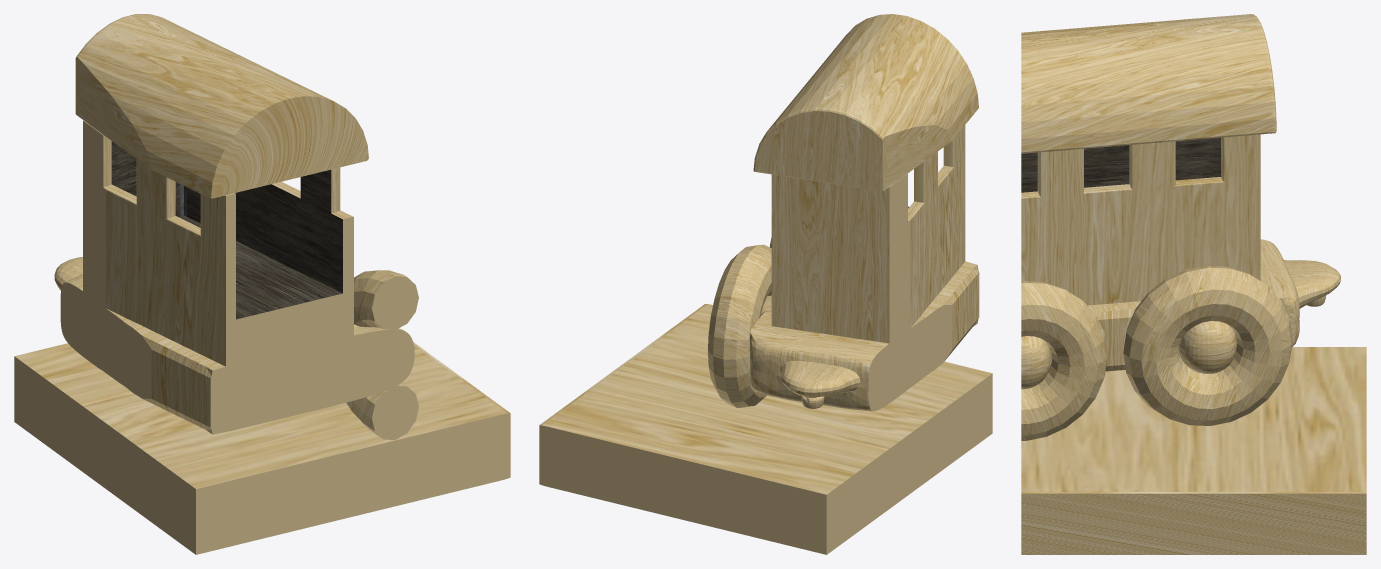
Rendered from 5_Holzbahn_Interior.fbx.
3 views of the same model, side by side, from view 1: azimuth 30°, elevation 25°; view 2: azimuth 150°, elevation 25°; view 3: azimuth 270°, elevation 25° (orthographic). The views are drawn at different scales.
Visible parts, largest first — view 1: Cube.012, Cube.049, Cube.048, Cube.050, Cube.046; view 2: Cube.012, Cube.049, Cube.048, Cube.050, Cube.047, Cube.051; view 3: Cube.012, Cube.049, Cube.048, Cube.047, Cube.046, Cube.050, Cube.051.
Part boxes in pixels (x1,y1,x2,y2): Cube.012: (14, 342, 510, 554); Cube.049: (83, 120, 353, 366); Cube.048: (75, 14, 368, 198); Cube.050: (60, 274, 414, 434); Cube.046: (346, 270, 418, 439); Cube.012: (539, 304, 992, 554); Cube.049: (771, 125, 965, 343); Cube.048: (753, 14, 978, 191); Cube.050: (749, 261, 979, 411); Cube.047: (708, 244, 771, 407); Cube.051: (780, 360, 860, 408); Cube.012: (1021, 347, 1366, 554); Cube.049: (1021, 134, 1260, 305); Cube.048: (1021, 14, 1276, 153); Cube.047: (1123, 266, 1292, 425); Cube.046: (1021, 281, 1107, 440); Cube.050: (1021, 239, 1299, 389); Cube.051: (1284, 260, 1340, 308).
Bounding box in the file's own units: 500 × 659 × 500.
